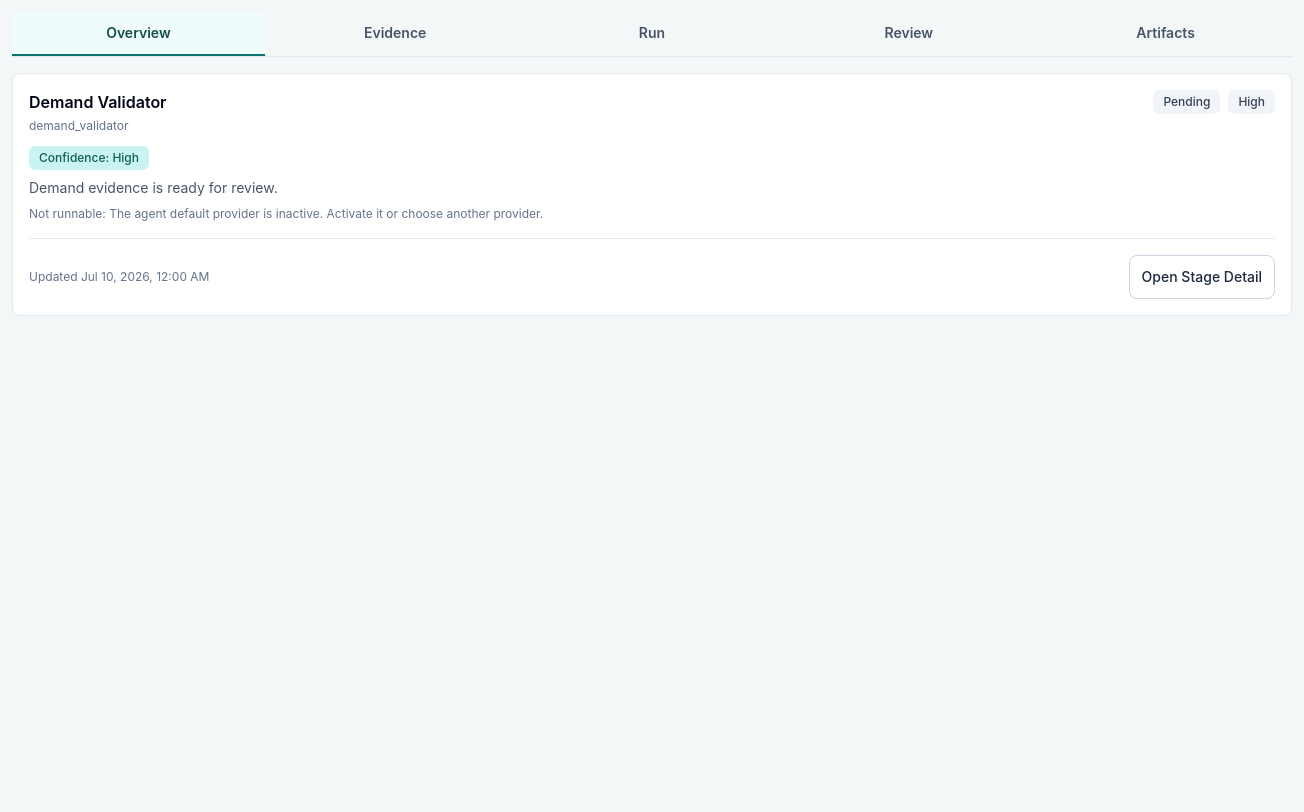
Test: StageWorkbenchTabs › allows an owned personal override when the shared default is inactive
Click the tab "Run" at (652, 34), box [526, 12, 778, 56]
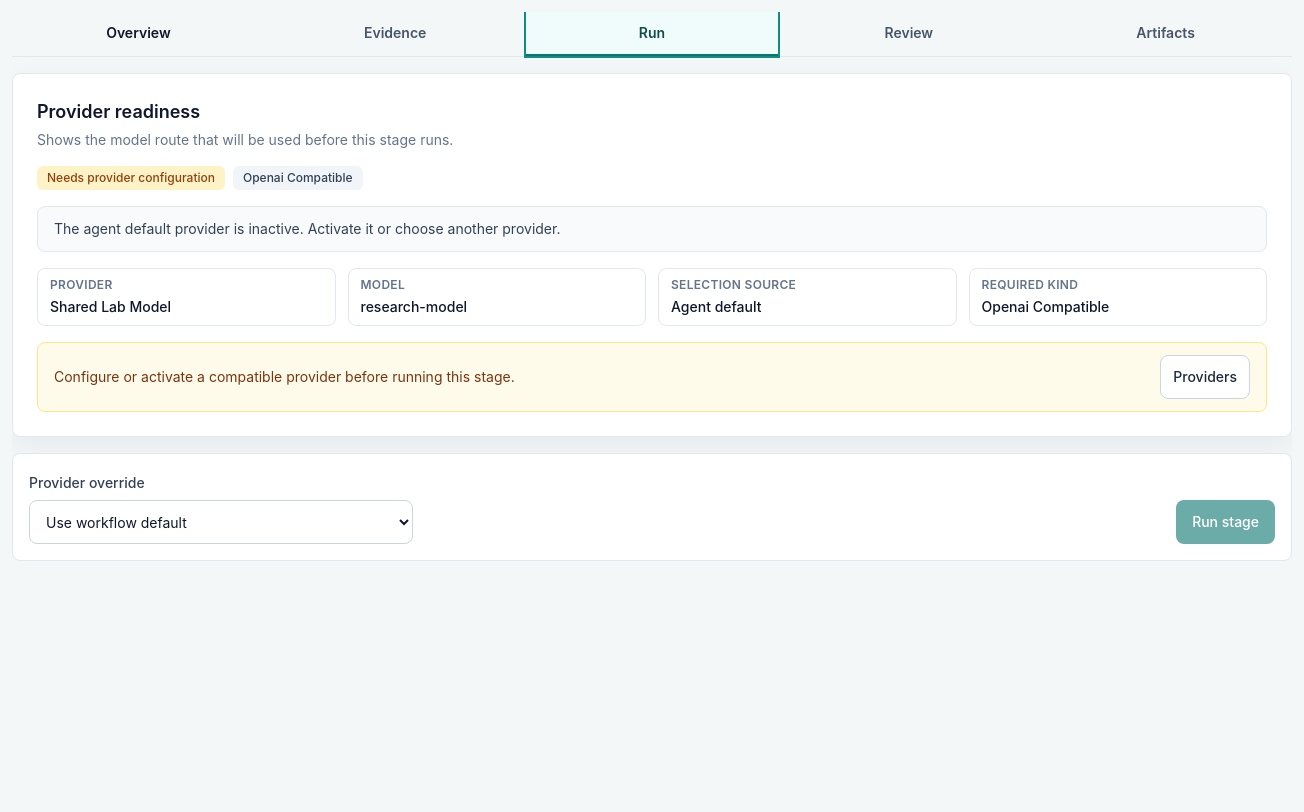
Check: the button "Run stage" is disabled, box [1176, 500, 1275, 544]
Select "Personal Lab Model" in the dropdown labelled "Provider override" at (221, 522), box [29, 500, 413, 544]
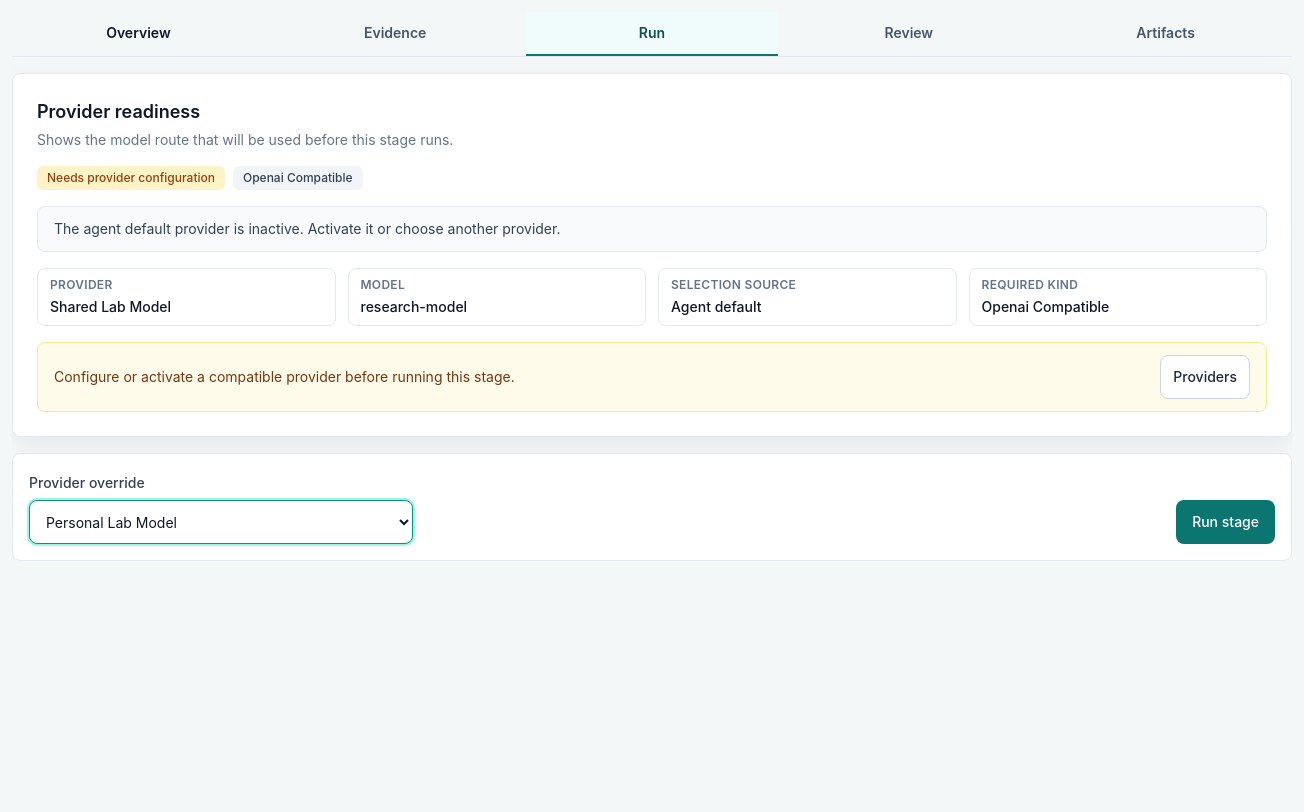
Check: the button "Run stage" is enabled, box [1176, 500, 1275, 544]
